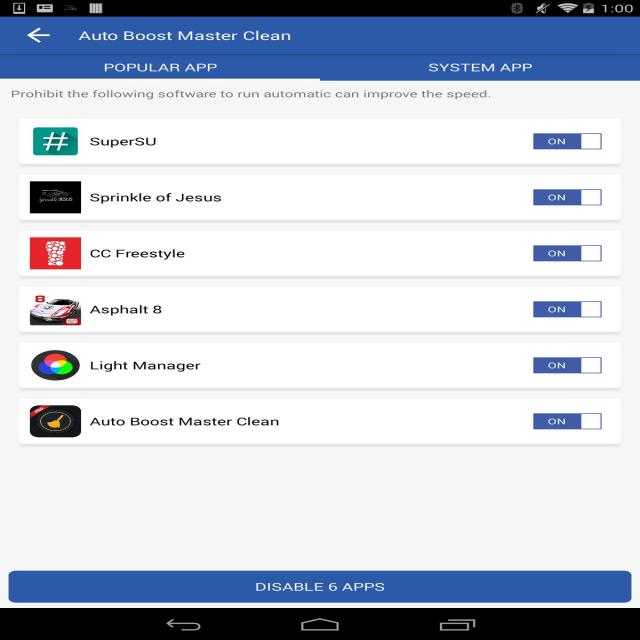button: (10, 570, 631, 602), (327, 56, 636, 81), (7, 56, 316, 80), (527, 354, 607, 378), (529, 186, 608, 208), (527, 299, 606, 321), (531, 410, 606, 433), (531, 241, 605, 264), (530, 131, 605, 153), (20, 20, 52, 44)
heading: (78, 29, 295, 43)
image: (28, 403, 82, 438), (28, 348, 82, 382), (27, 296, 82, 326), (30, 181, 80, 213), (29, 238, 80, 269), (33, 126, 78, 156)
text: (10, 87, 491, 103), (96, 58, 226, 76), (87, 190, 225, 206), (86, 359, 202, 373), (424, 60, 534, 74), (86, 247, 187, 260), (88, 302, 166, 317), (90, 135, 160, 148)
